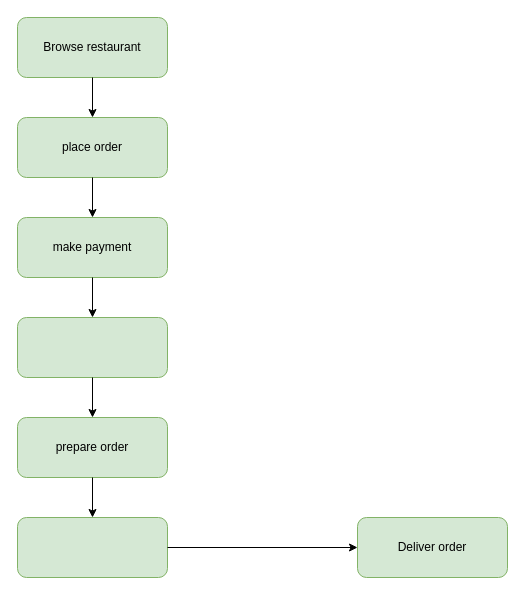
This 525x595 diagram has some shape labels left out. The shapes that lost their labels are listed below. From the top down, each one's centre as x and y in pixels, then its label:
the point at 92,347: order confirmed
the point at 92,547: pick up order
